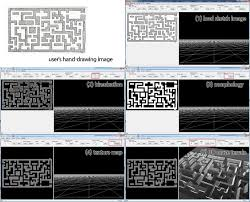maze: (8, 8, 85, 52), (126, 79, 177, 109), (1, 80, 53, 109), (2, 159, 53, 187), (127, 159, 177, 187), (127, 13, 176, 41)
